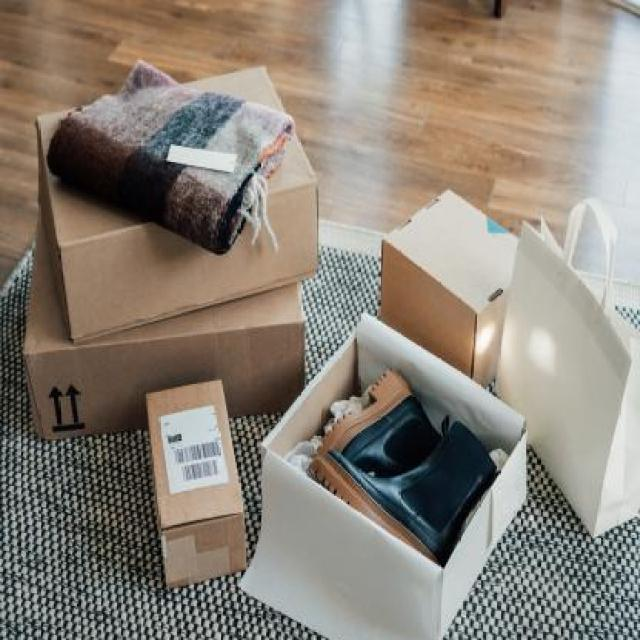box: (9, 176, 322, 458), (29, 58, 328, 348), (368, 169, 534, 388), (130, 386, 275, 616)
